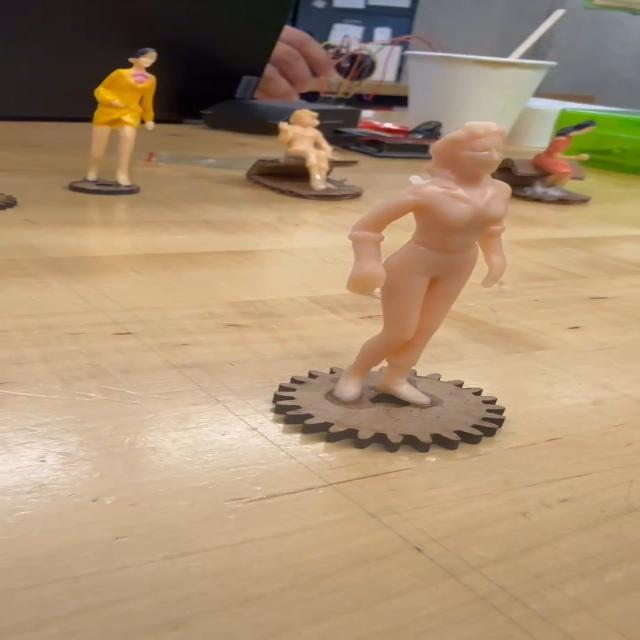Unauthorized: (318, 107, 521, 413)
